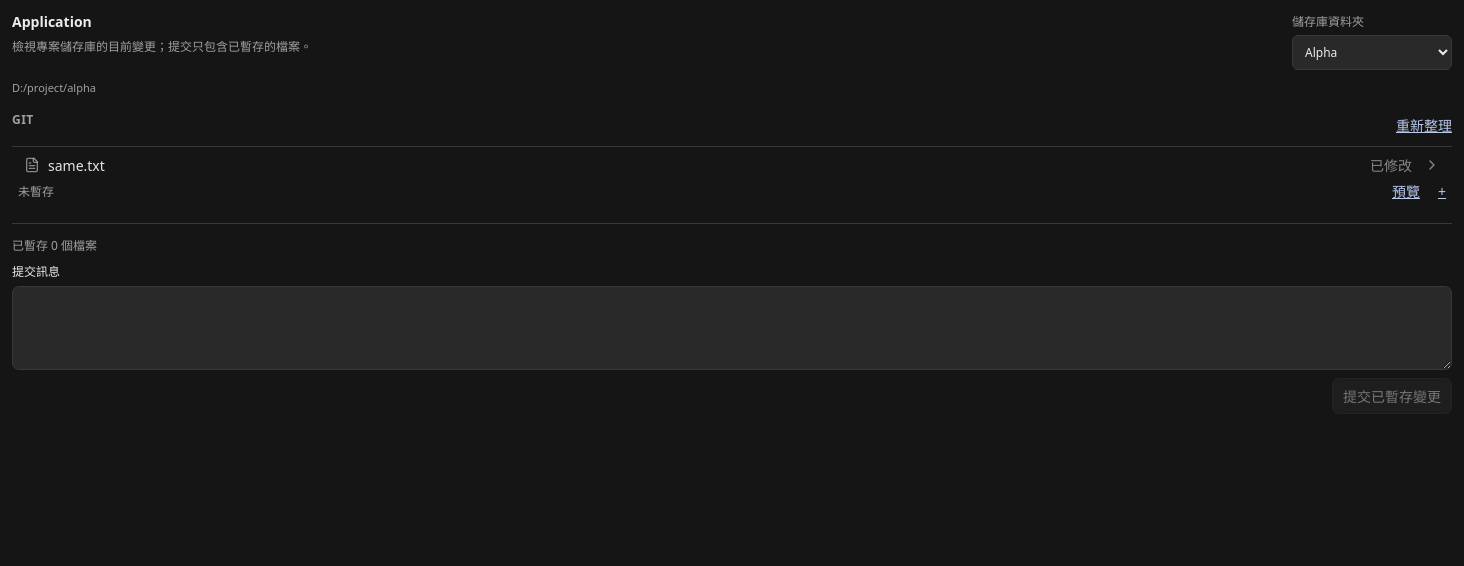
Test: ProjectGitPane › captures diff and preview native identities and discards a late diff on folder replacement
Click the button with aria-label "same.txt · 已修改": (76, 165) [12, 149, 1452, 181]
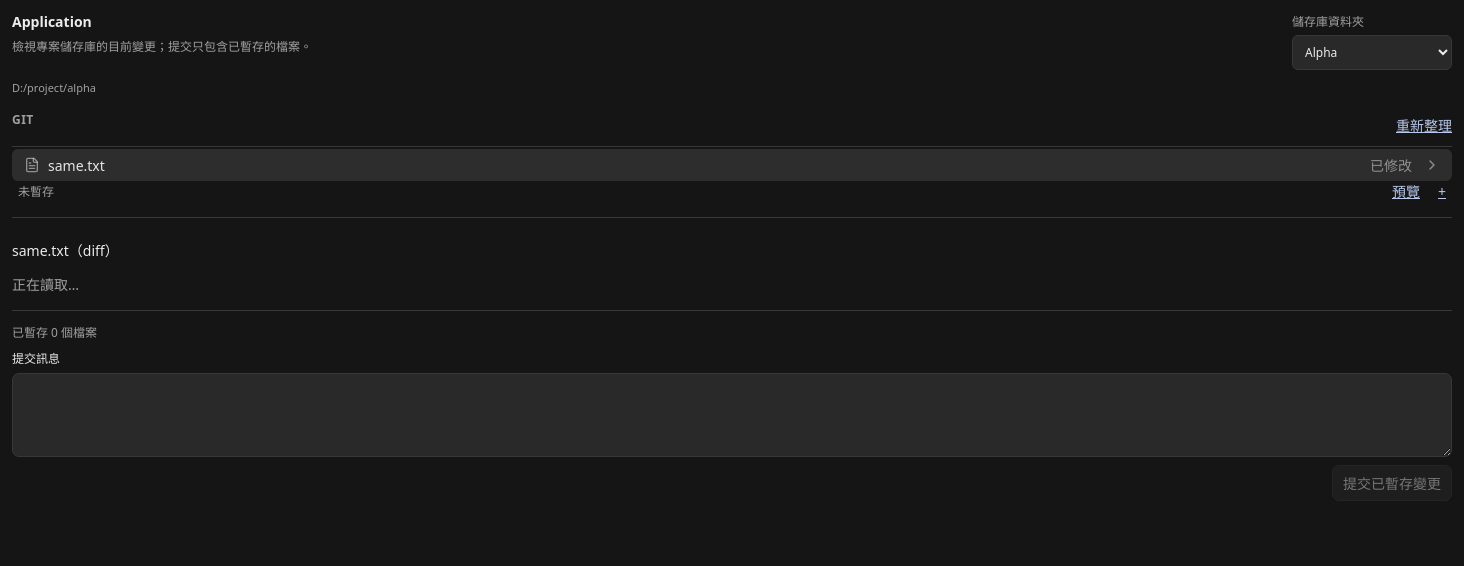
Select "Beta" in the dropdown labelled "儲存庫資料夾": (1372, 52) [1292, 35, 1452, 70]
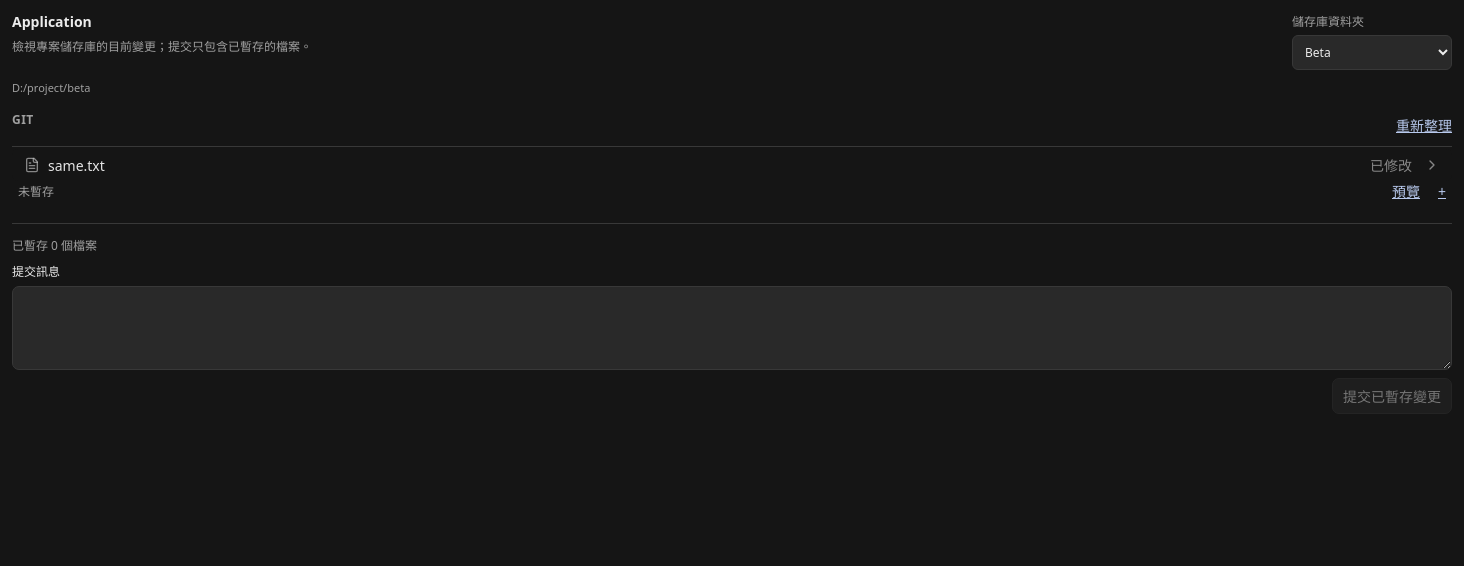
Expected: the button with aria-label "same.txt · 已修改" is shown, [12, 149, 1452, 181]
Click the button "預覽": (1406, 191) [1392, 181, 1420, 201]
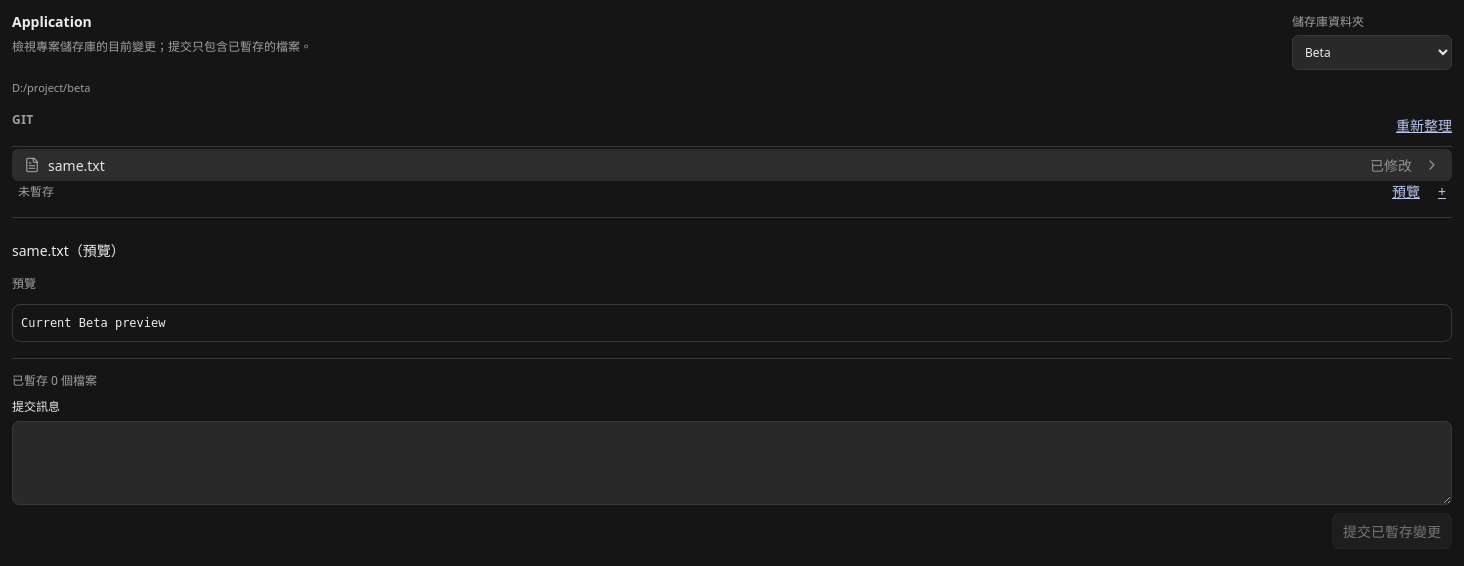
Result: the text "Current Beta preview" is shown at [12, 304, 1452, 342]
